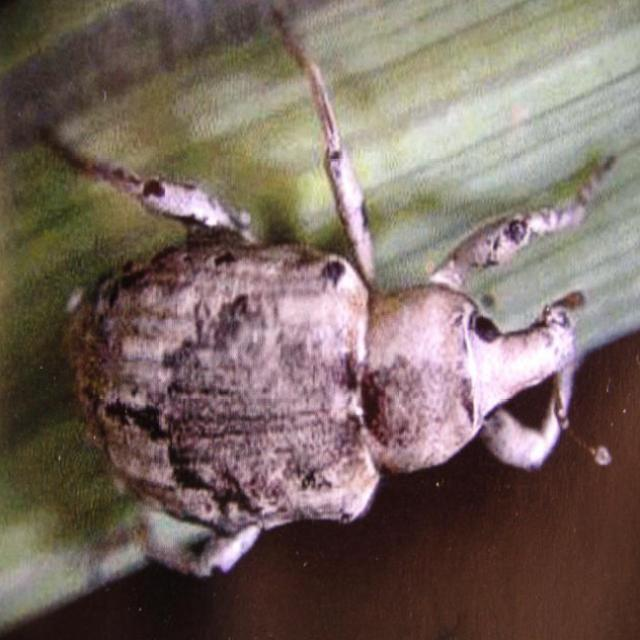ricebug: (70, 32, 610, 576)
